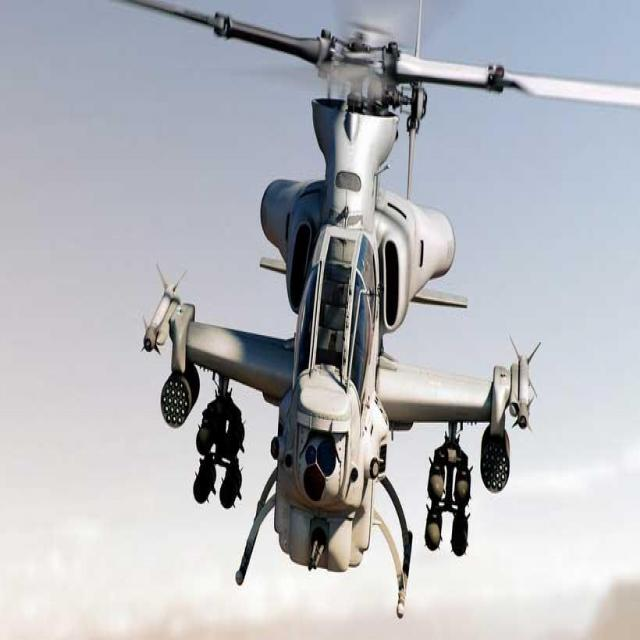MIL_HELO: (91, 0, 640, 618)
